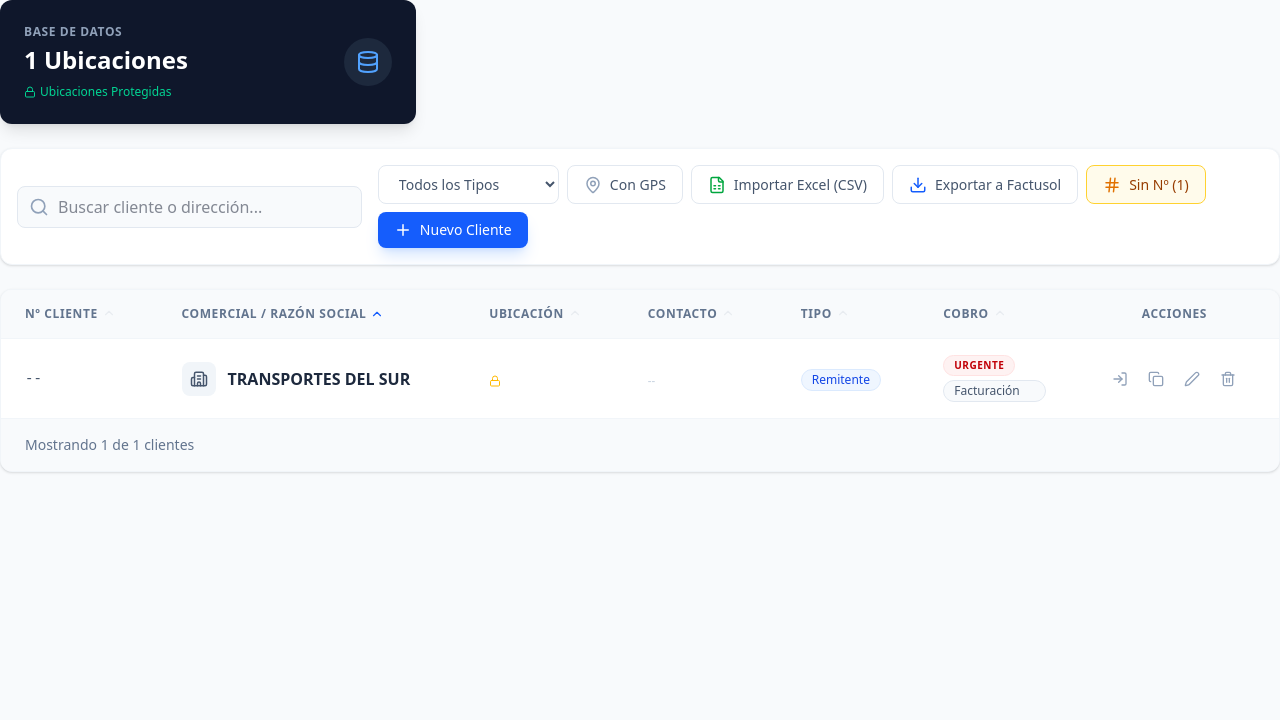
Scenario: Clients — repasar las fichas sin Nº › con el candado echado avisa de las que no se ven
The width and height of the screenshot is (1280, 720).
Click the button "Sin Nº (1)" at (1146, 184), box [1086,165,1206,204]
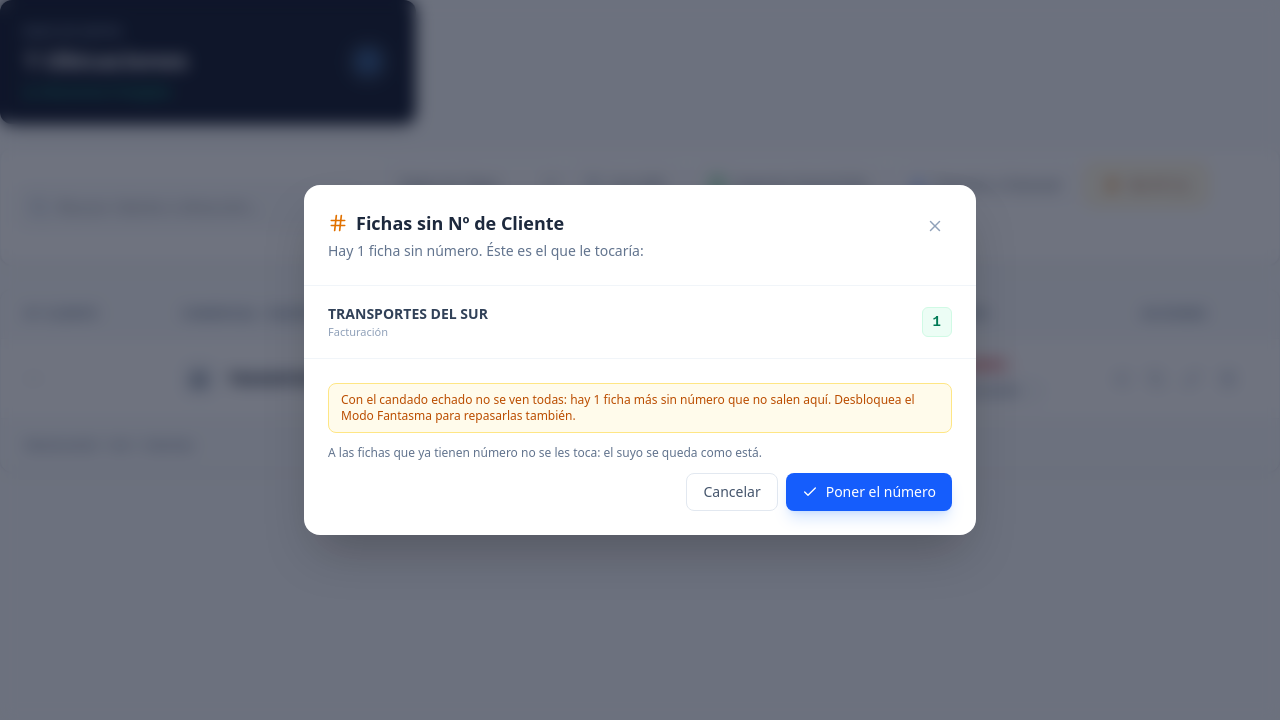
Now the text "hay 1 ficha más sin número" is shown, box [328,383,952,433]
